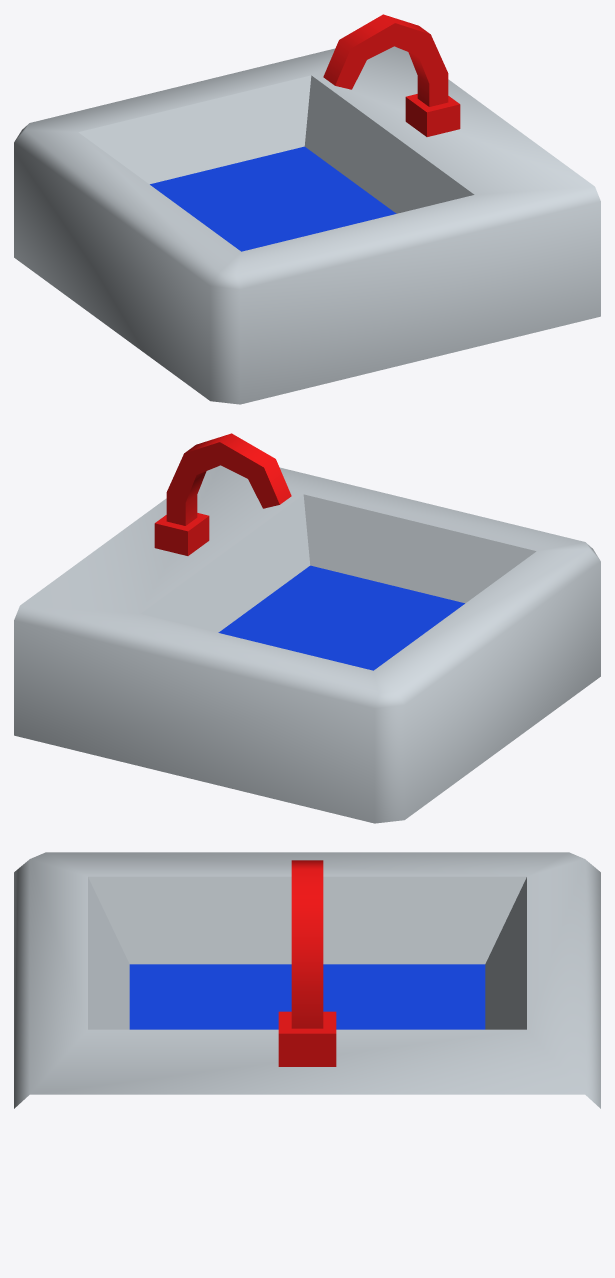
Rendered from toilet3.FBX.
3 views of the same model, one above another, from view 1: azimuth 30°, elevation 25°; view 2: azimuth 150°, elevation 25°; view 3: azimuth 270°, elevation 25° (orthographic). The views are drawn at different scales.
Visible parts, largest first — view 1: Box1199; view 2: Box1199; view 3: Box1199.
Boxes of the visible parts, x1,y1,x2,y2 form: Box1199: (14,14,600,404); Box1199: (14,433,600,823); Box1199: (14,852,600,1108).
Size of the model in its own units: 1.3 by 0.7936 by 1.29.
